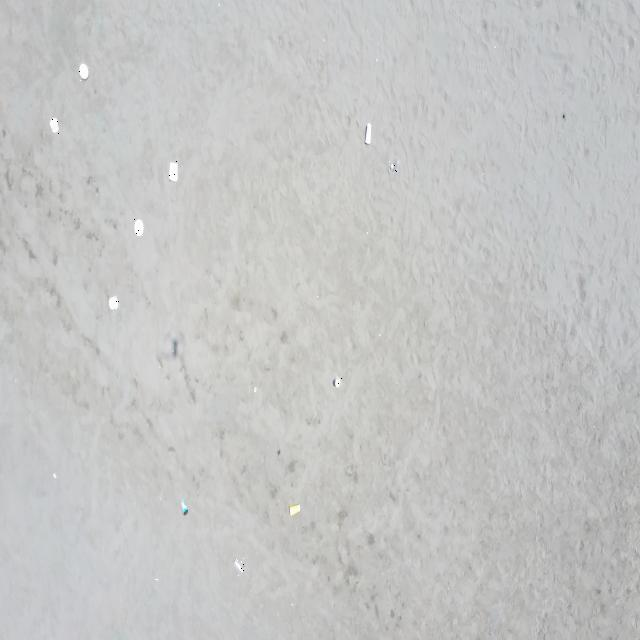take-away-containers: (170, 161, 180, 182), (134, 219, 145, 238), (50, 117, 59, 134), (79, 64, 88, 81), (110, 297, 120, 310)
takeaway-cup: (233, 558, 244, 577), (364, 121, 372, 146), (388, 159, 400, 175), (289, 503, 301, 517), (182, 498, 190, 516), (334, 377, 342, 389)
